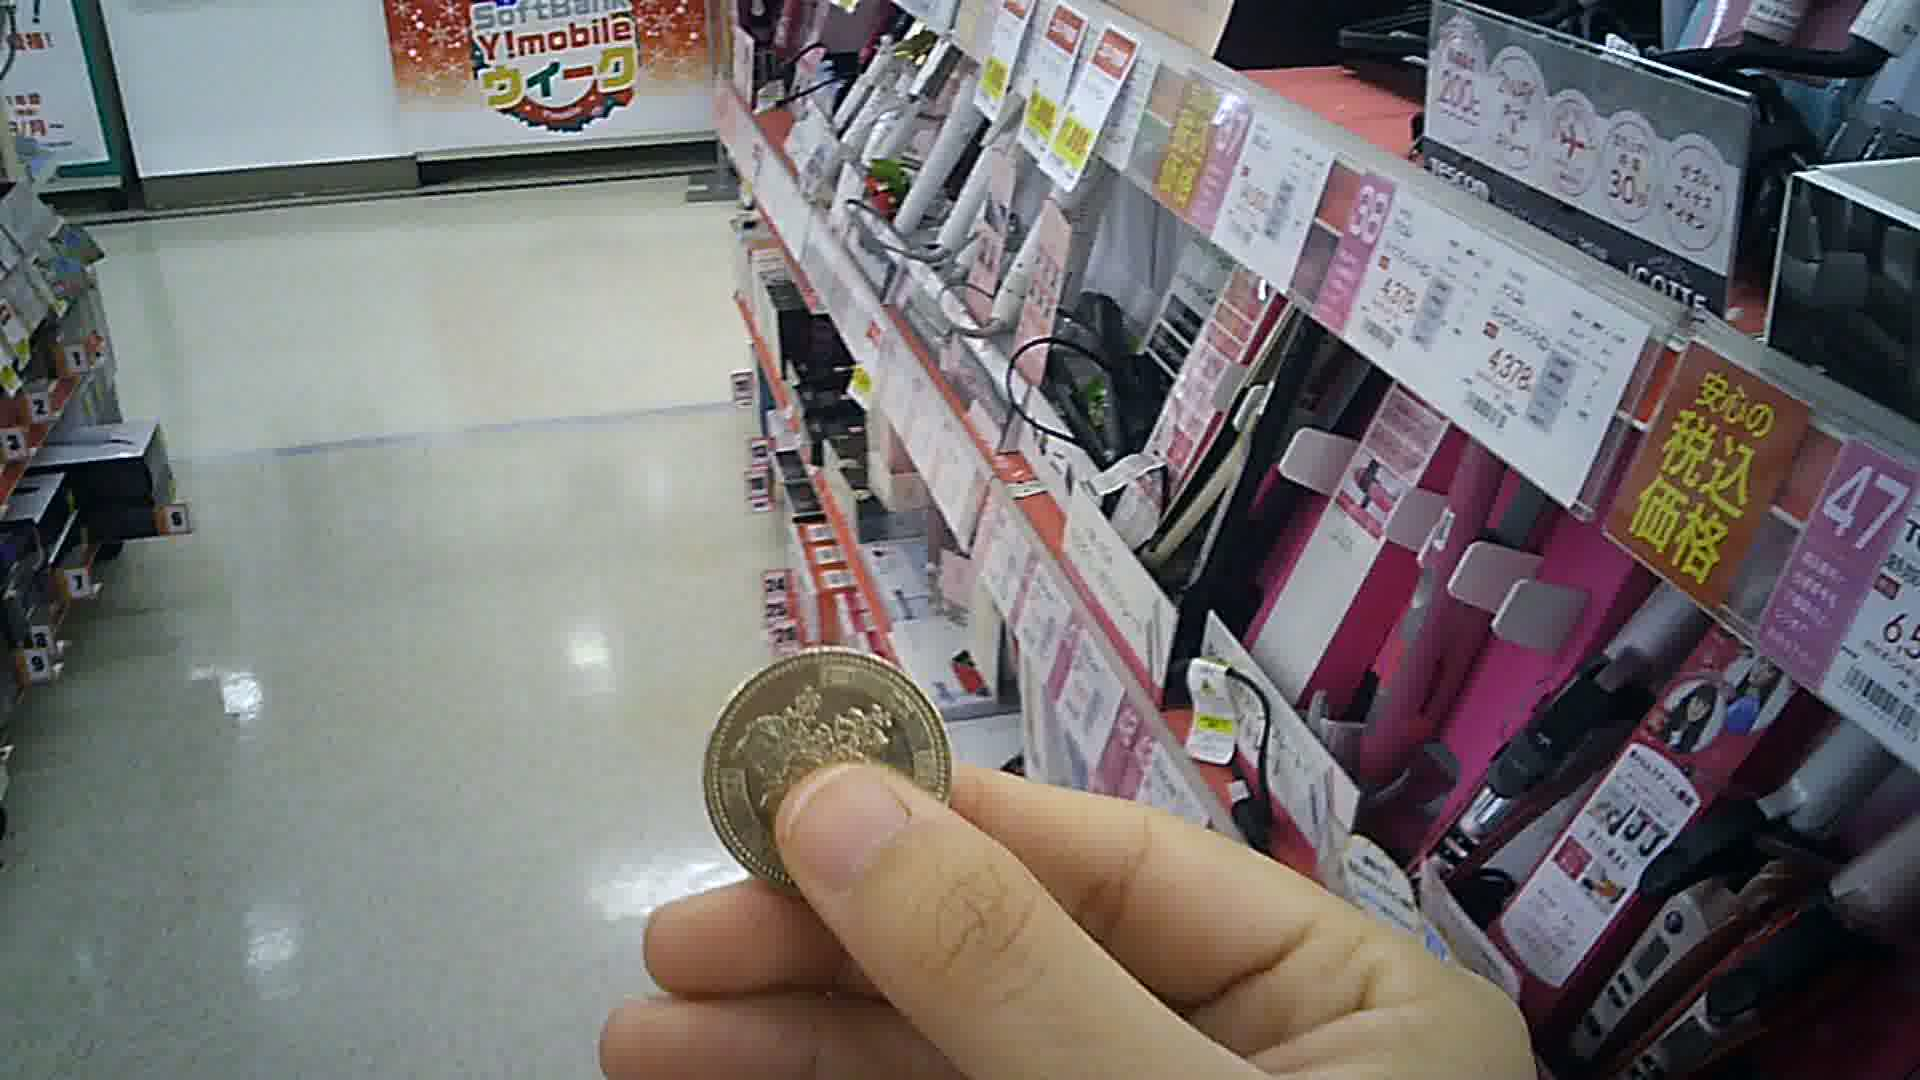500 Yen: (698, 644, 960, 909)
